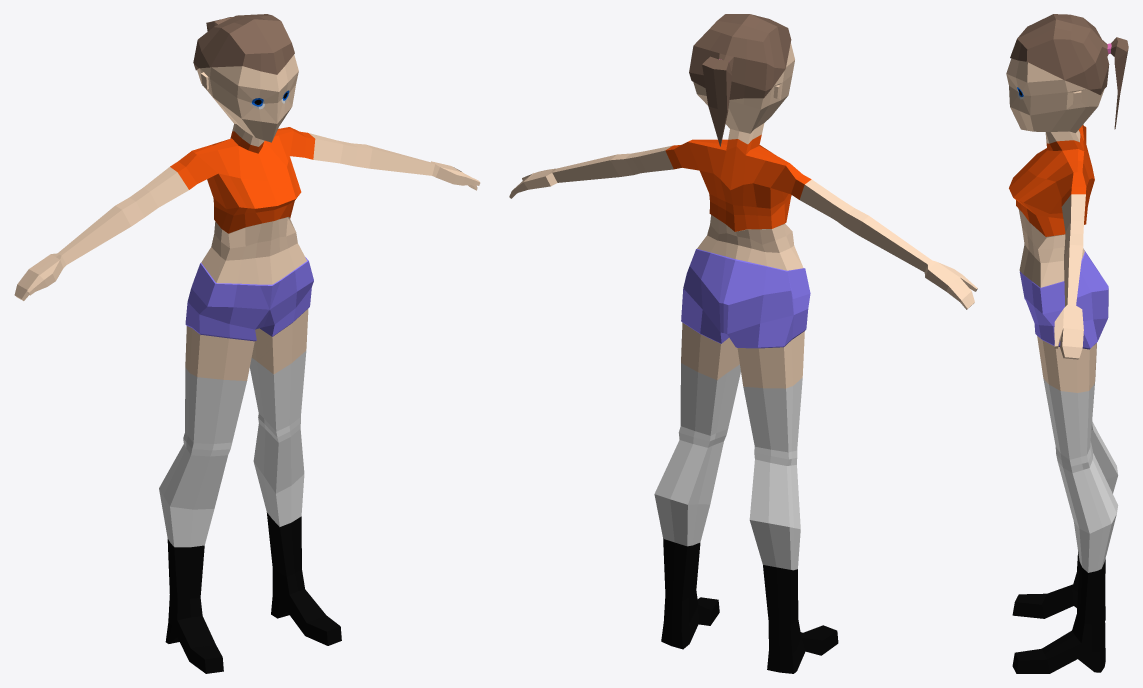
File: ExportedBlenderFBXFile.fbx
3 renders of one model, left to right at view 1: azimuth 30°, elevation 25°; view 2: azimuth 150°, elevation 25°; view 3: azimuth 270°, elevation 25°, orthographic.
Visible parts, largest first — view 1: Cube.001; view 2: Cube.001; view 3: Cube.001.
Part boxes in pixels (x1,y1,x2,y2): Cube.001: (14, 14, 480, 673); Cube.001: (509, 14, 977, 673); Cube.001: (1006, 14, 1128, 673).
Size of the model in its own units: 1.35 by 1.77 by 0.3158.
